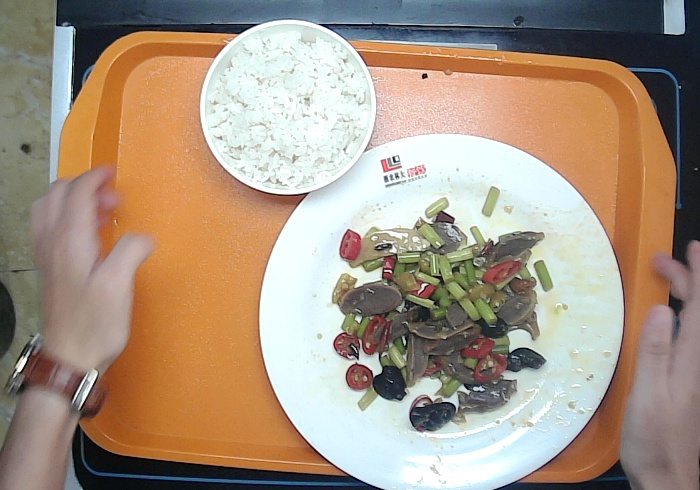ZNLD-Da_Yuan_Pan: (255, 129, 626, 490)
ZNLD-Fan_Wan: (196, 15, 379, 204)
